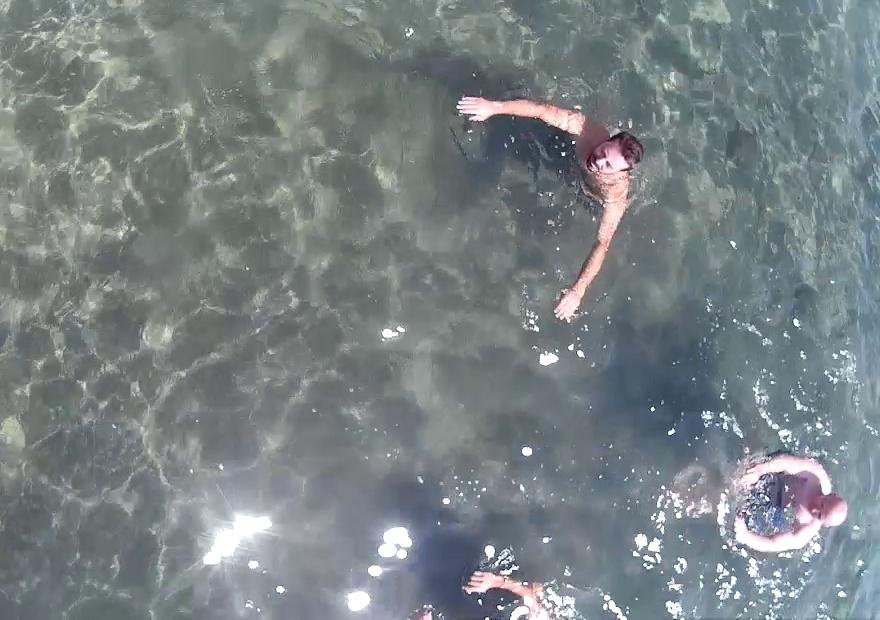swimmer: (434, 49, 647, 360), (684, 412, 848, 576)
